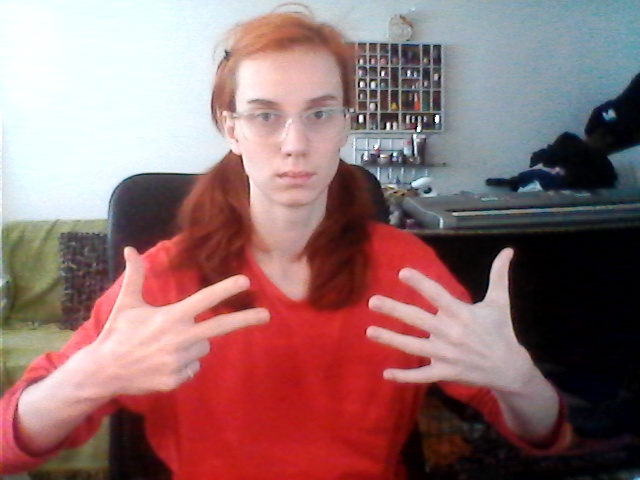osem: (104, 237, 525, 396)
